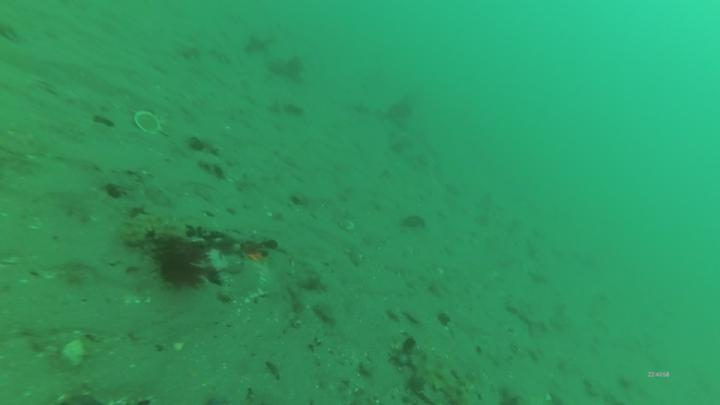echinus: (153, 239, 206, 292), (385, 96, 416, 124), (271, 57, 305, 82)
holothurian: (398, 345, 485, 405), (118, 211, 168, 250)
